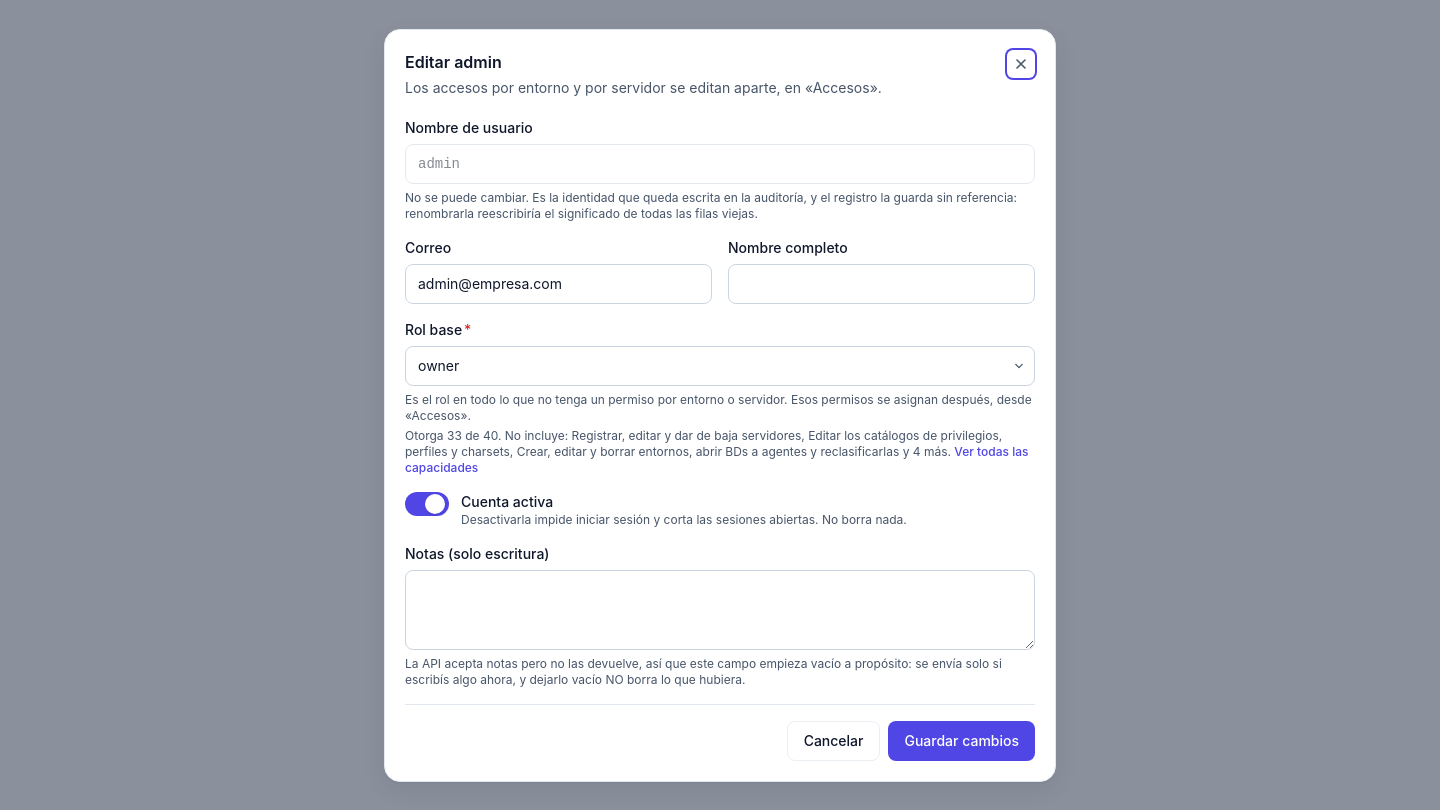
Test: GatewayUserFormModal — rol base › sobre una cuenta que ya es owner no marca nada
Click the button named "Abrir lista" at coordinates (1019, 366), box [1007,354,1031,378]
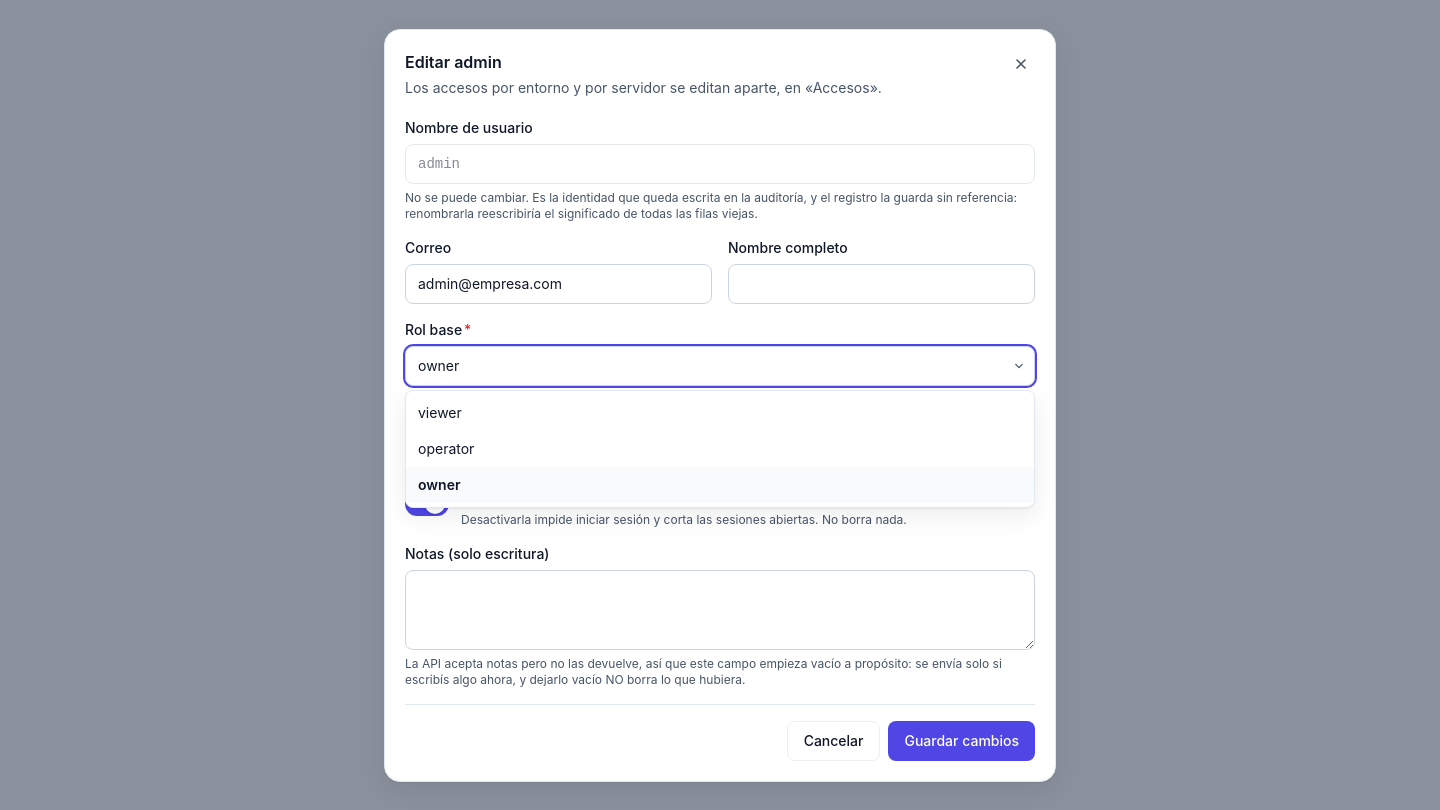
Expected: the option "owner" is shown, [406,466,1034,502]
